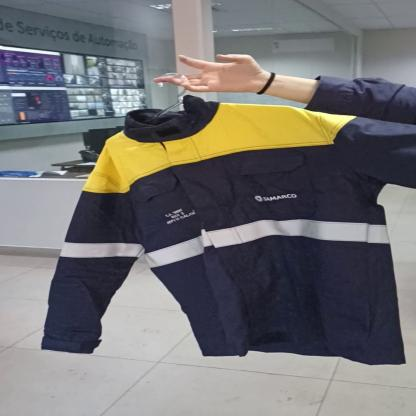C_eletrica: (43, 102, 416, 370)
